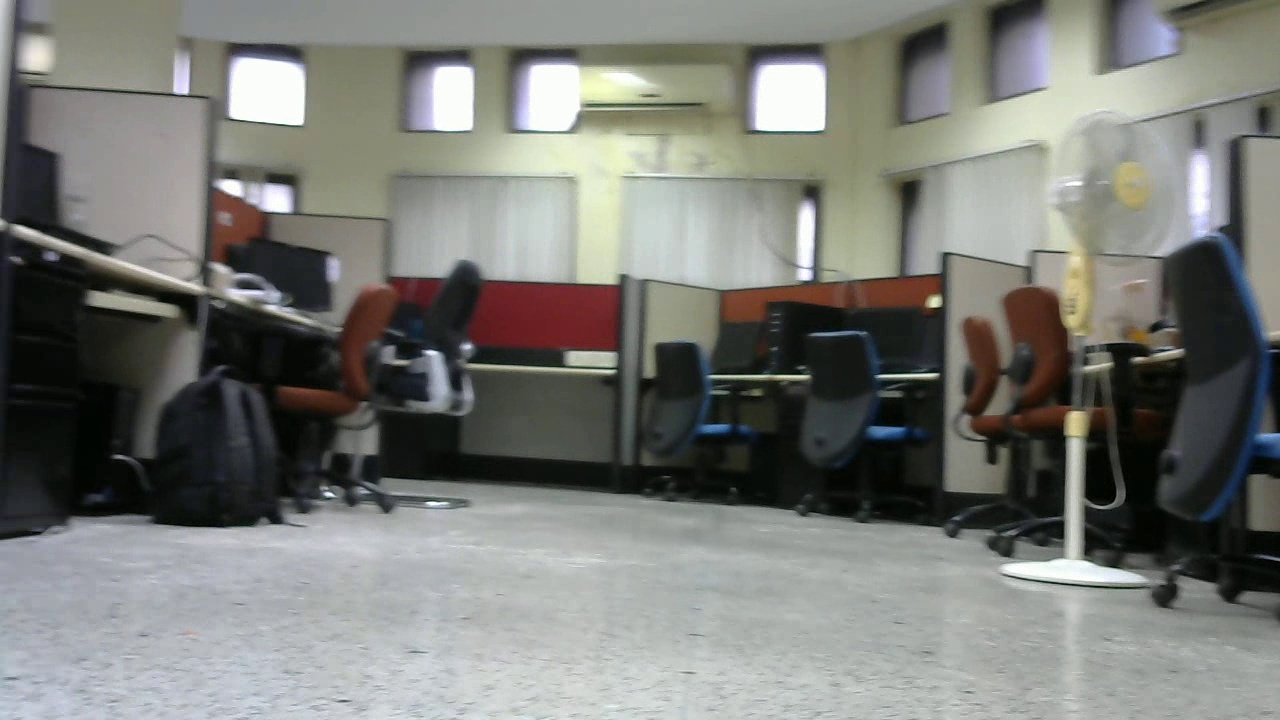chair: (908, 287, 1139, 559), (1162, 249, 1280, 598), (347, 260, 483, 513), (258, 284, 407, 484), (784, 327, 931, 518), (642, 344, 772, 510)
